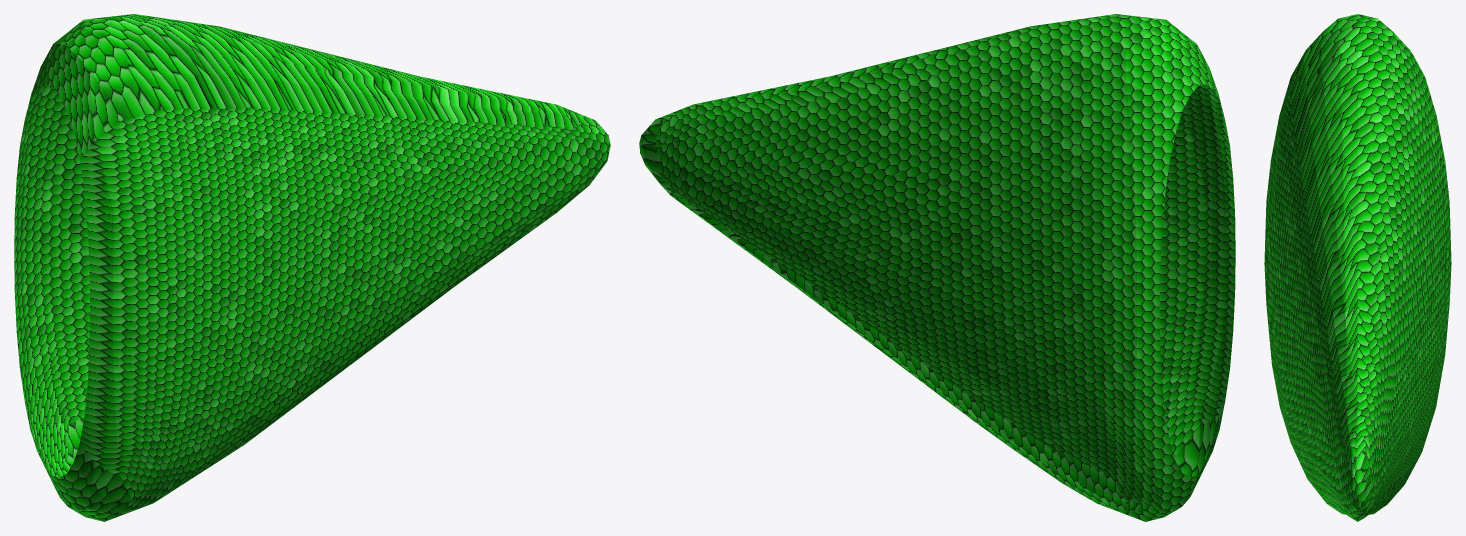
The model's file is Fish5_1_new1.dae.
3 views of the same model, side by side, from view 1: azimuth 30°, elevation 25°; view 2: azimuth 150°, elevation 25°; view 3: azimuth 270°, elevation 25° (orthographic). The views are drawn at different scales.
Parts seen in each view (by area): view 1: Cube_Cube_003; view 2: Cube_Cube_003; view 3: Cube_Cube_003.
Boxes of the visible parts, left/top/right/bottom form: Cube_Cube_003: left=14, top=14, right=610, bottom=521; Cube_Cube_003: left=639, top=14, right=1235, bottom=521; Cube_Cube_003: left=1264, top=14, right=1451, bottom=521.
Bounding box in the file's own units: 5.59 × 1.68 × 4.75.
1 material, 1 textured.
